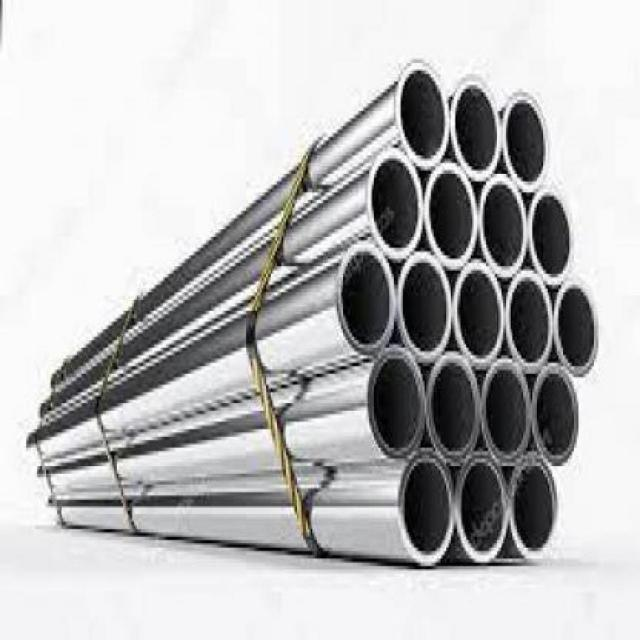pipe: (40, 154, 421, 415), (34, 245, 394, 466), (48, 355, 428, 510), (50, 446, 456, 563), (391, 54, 453, 171), (445, 70, 505, 184), (498, 87, 555, 193), (484, 361, 530, 472), (458, 455, 506, 561), (456, 270, 509, 361), (429, 361, 479, 457), (428, 170, 476, 266), (531, 183, 575, 285), (482, 175, 525, 274), (512, 468, 559, 555), (509, 270, 549, 365), (557, 275, 597, 368), (403, 263, 445, 346), (538, 372, 577, 459)
